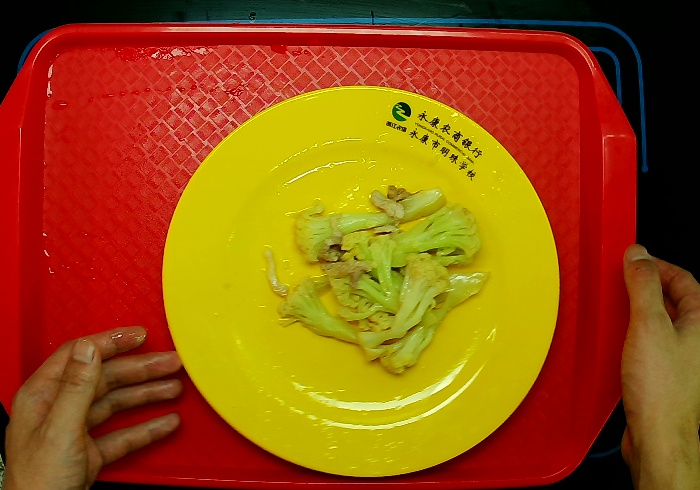YKMZ-Huang_Se_Mian_Pan: (159, 74, 563, 483)
